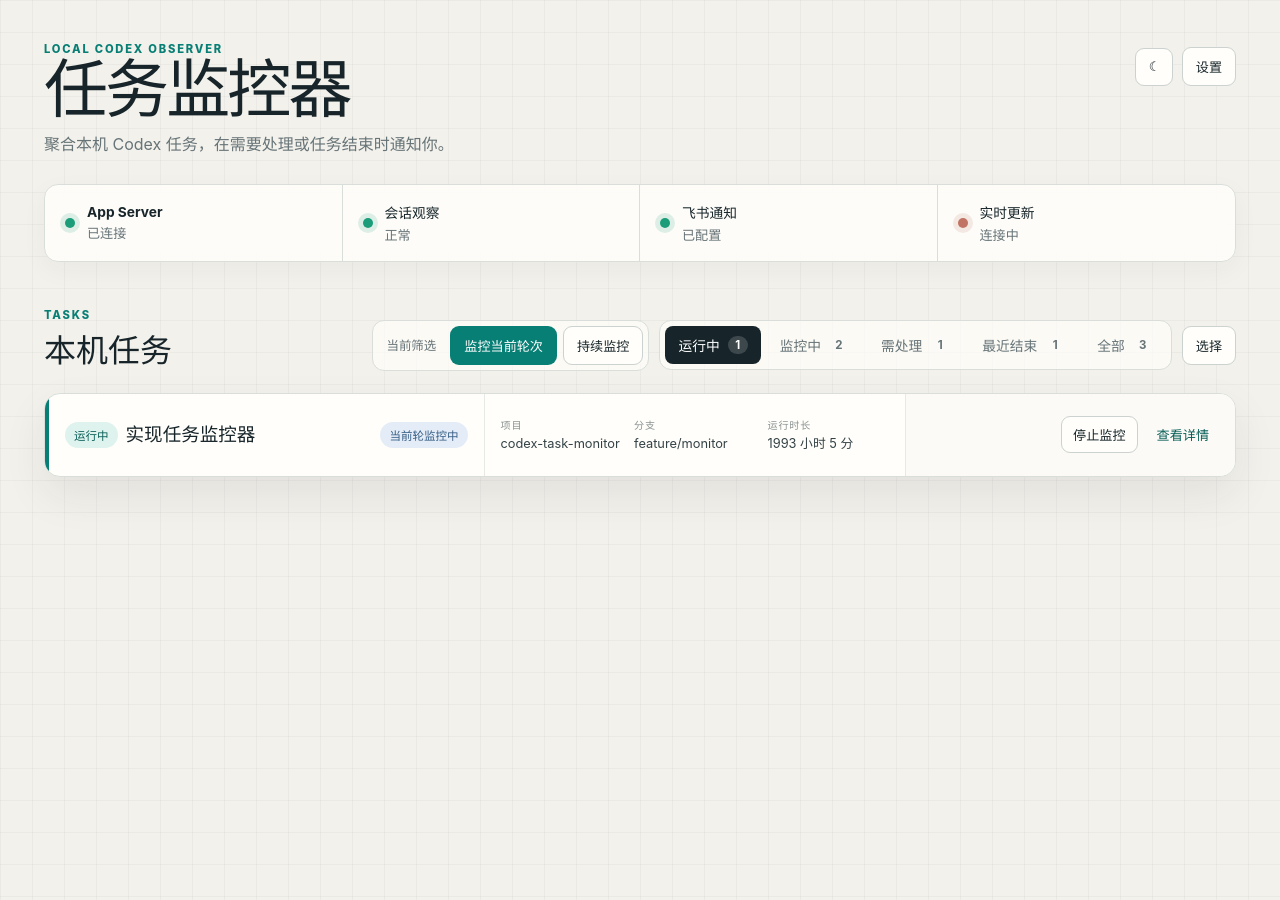
it: 任务监控主页面 › 监控中筛选展示活动和终态监控任务并支持停止
Check: the text with class "filter-count" reads "2", box [835,338,843,352]
Click the button "监控中 2". click: [814, 345]
box: [767,326,862,364]
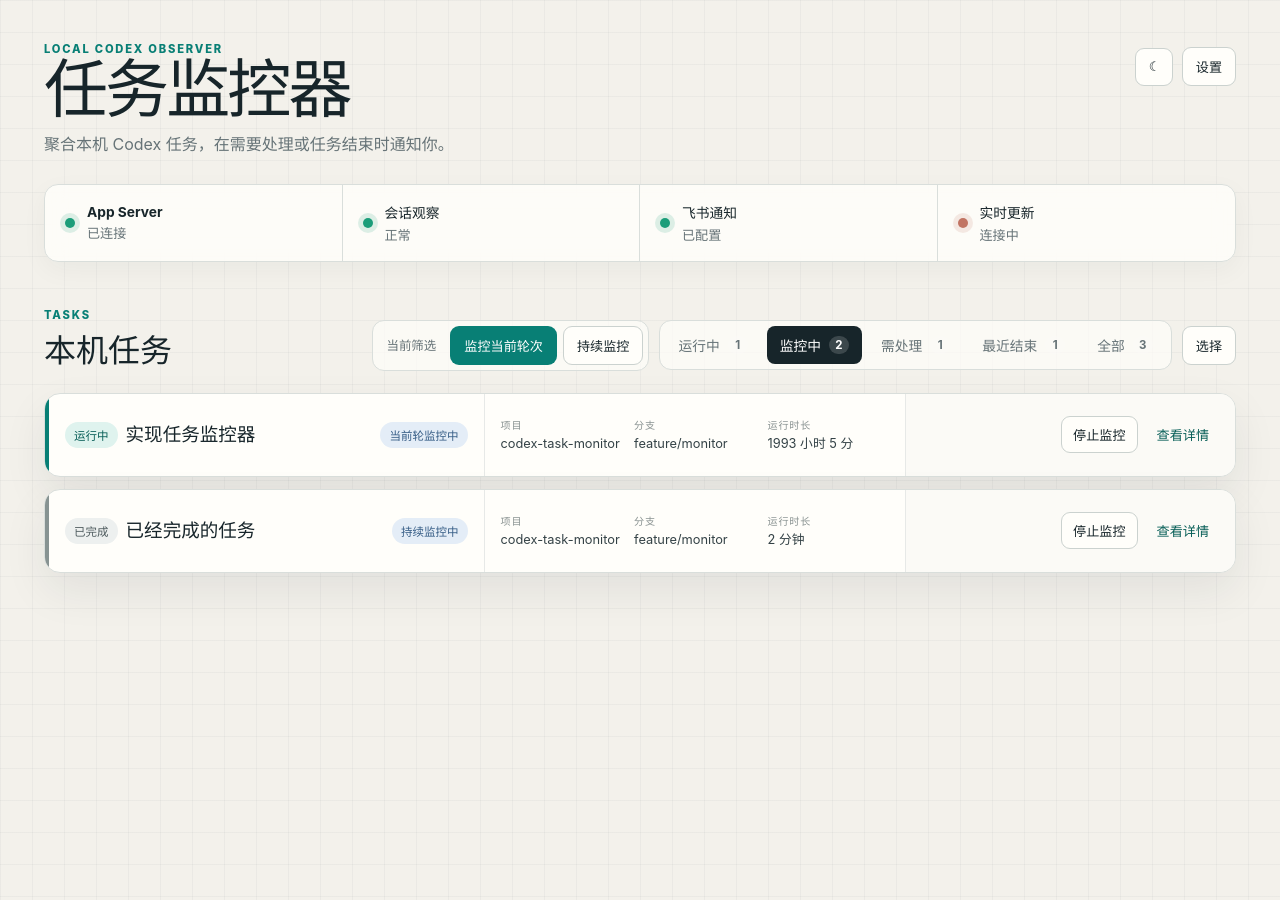
Check: the text "实现任务监控器" is shown, box [126,424,255,445]
Check: the text "已经完成的任务" is shown, box [126,520,255,541]
Check: the element with class "task-card" that starts with "已完成" is shown, box [44,489,1236,573]
Click the button "停止监控" in the row of "2 分钟". click: [1099, 531]
box: [1061,512,1138,549]
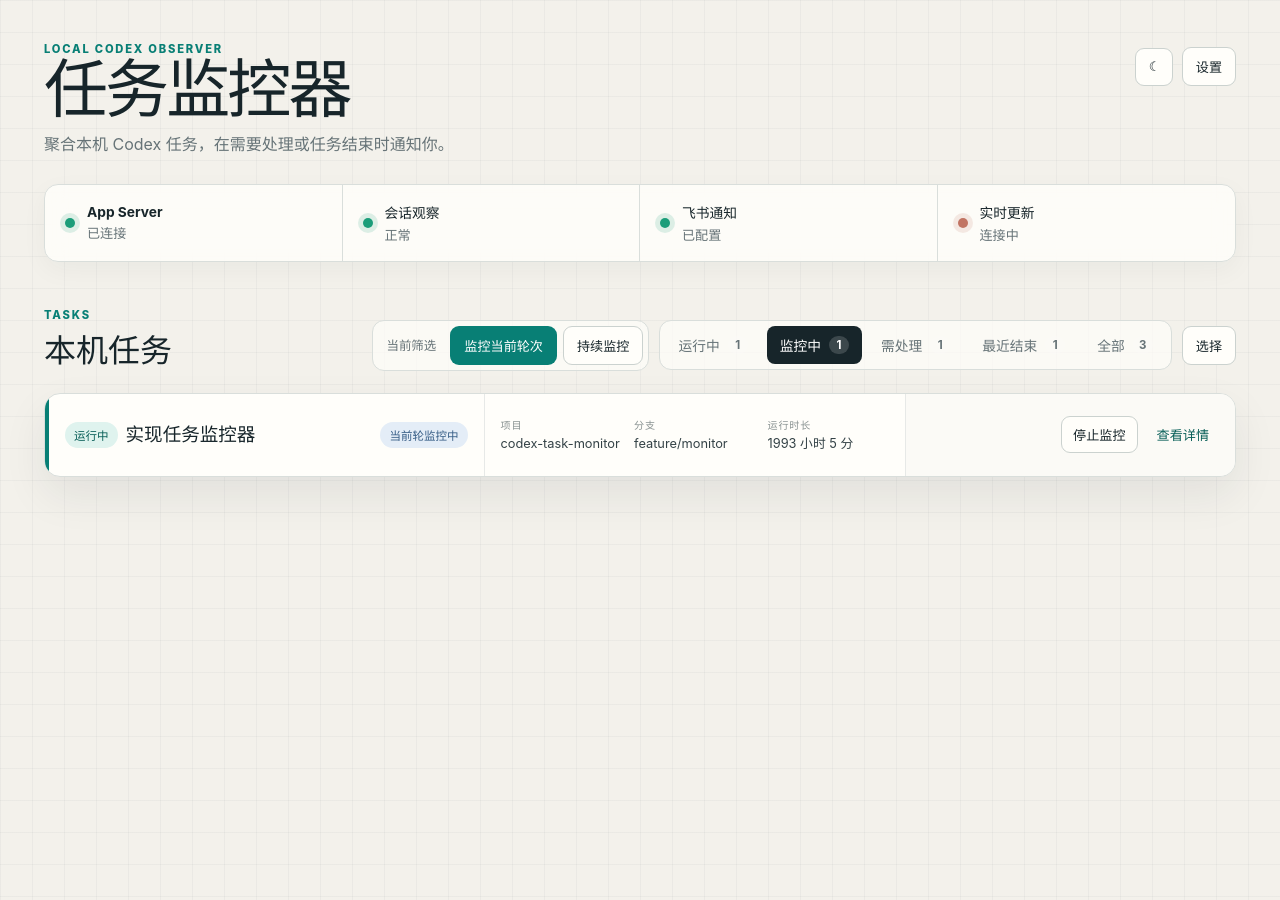
Check: the text "实现任务监控器" is shown, box [126,424,255,445]
Check: the text "已经完成的任务" is gone
Check: the 2nd text with class "filter-count" reads "1", box [836,338,842,352]
